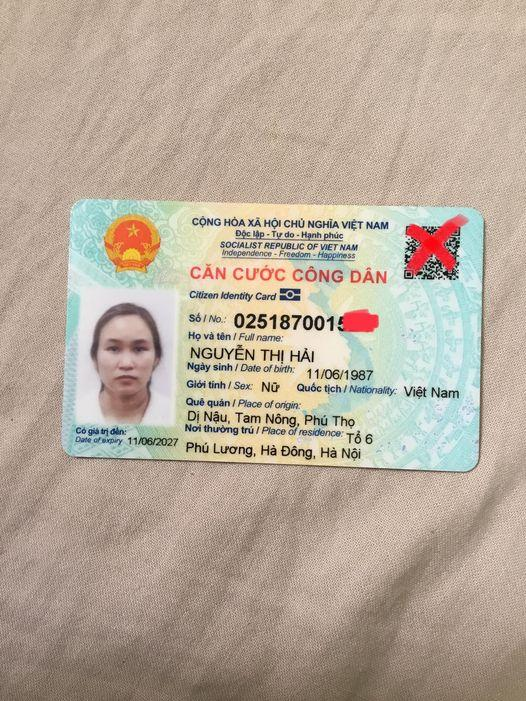bottom_left: (54, 435, 78, 462)
bottom_right: (459, 449, 484, 476)
image_person: (80, 290, 182, 428)
top_left: (64, 190, 88, 215)
top_right: (464, 198, 488, 228)
